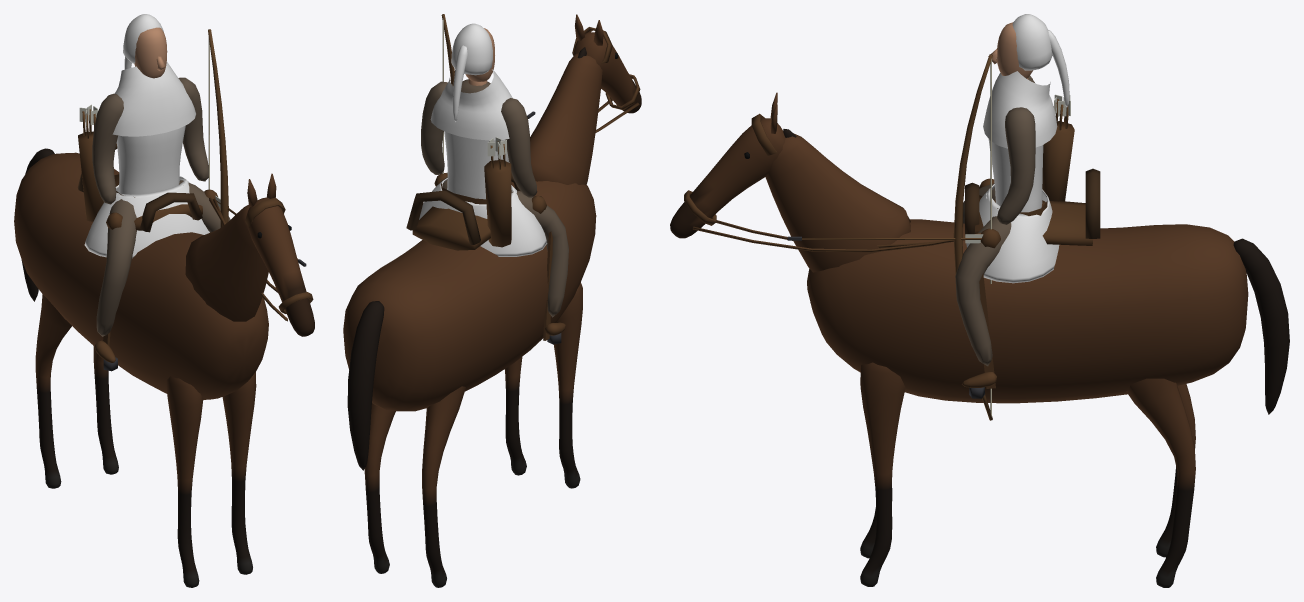
Rendered from cavalry_2.glb.
3 renders of one model, left to right at view 1: azimuth 30°, elevation 25°; view 2: azimuth 150°, elevation 25°; view 3: azimuth 270°, elevation 25°, orthographic. The views are drawn at different scales.
Visible parts, largest first — view 1: cavalry_2; view 2: cavalry_2; view 3: cavalry_2.
Boxes of the visible parts, bbox=[...] form: cavalry_2: bbox=[14, 14, 314, 587]; cavalry_2: bbox=[343, 14, 641, 587]; cavalry_2: bbox=[670, 14, 1289, 587].
Bounding box in the file's own units: 0.7336 × 2.6 × 2.62.
